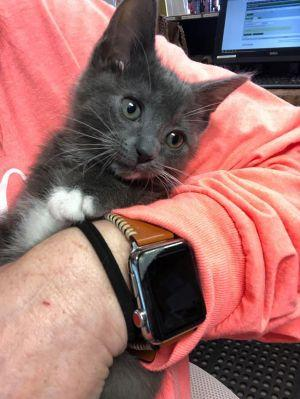rblue: (66, 6, 254, 198)
